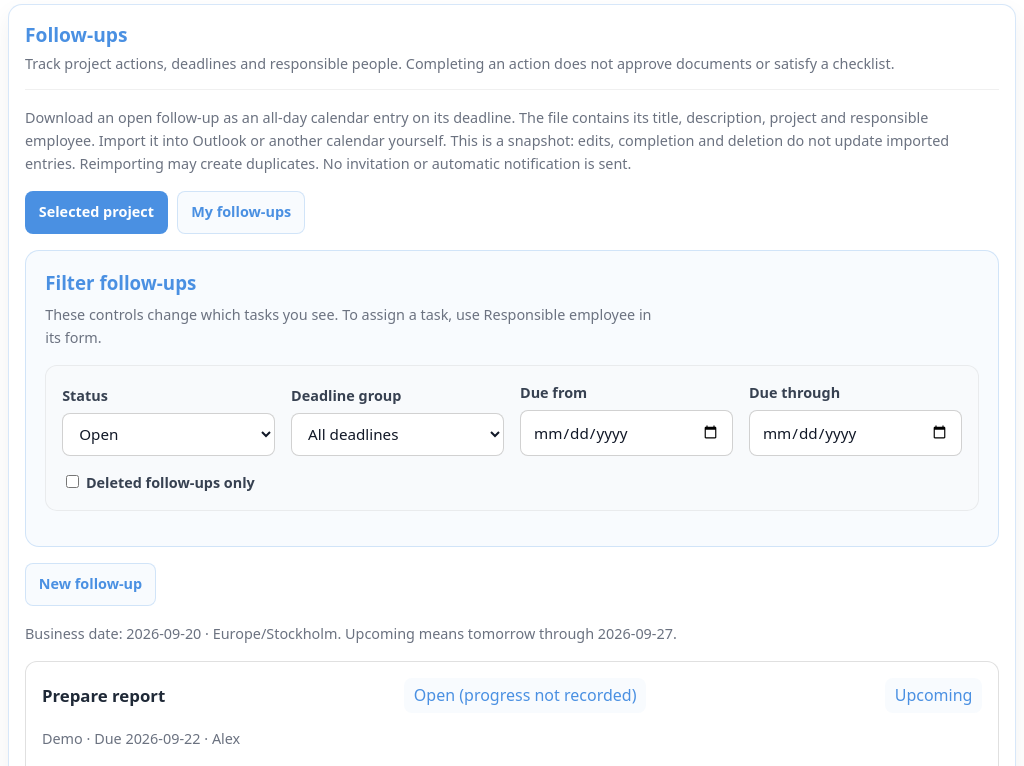
explains EMPLOYEE_INACTIVE instead of presenting an ordinary empty queue
This screenshot has width=1024, height=766.
Check: the heading "Prepare report" is shown, box left=42, top=683, right=165, bottom=708
Click the button "My follow-ups": click(241, 212) left=177, top=191, right=305, bottom=234
(page scrolled)
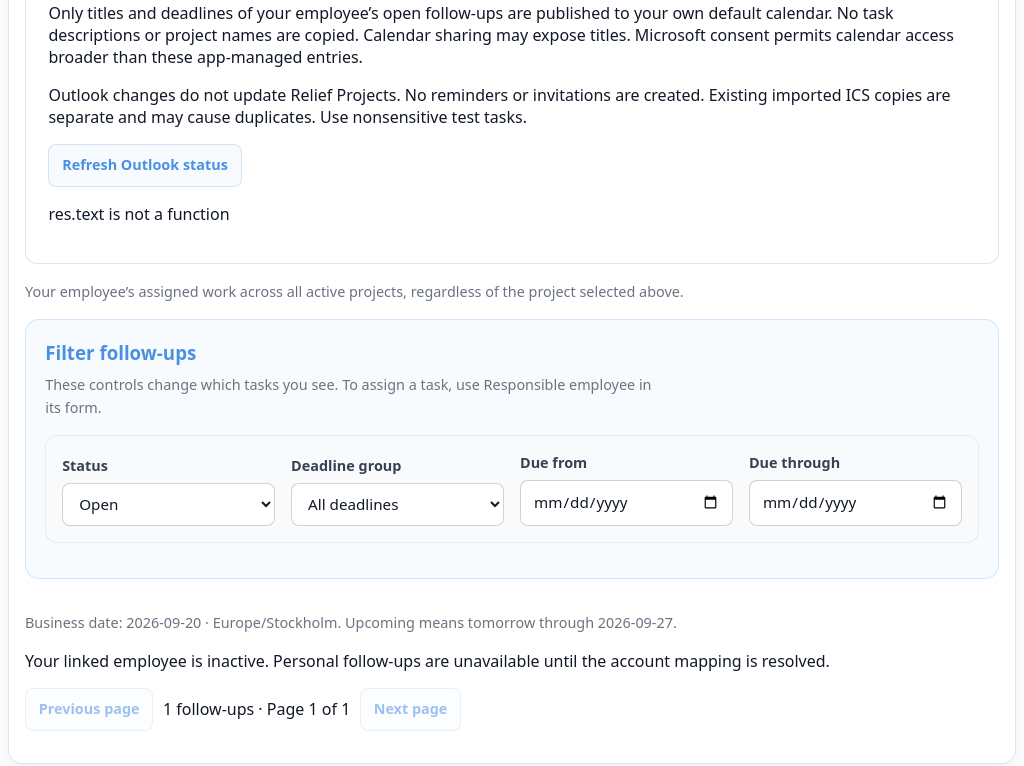
Check: the text "linked employee is inactive" is shown, box left=25, top=650, right=830, bottom=672
